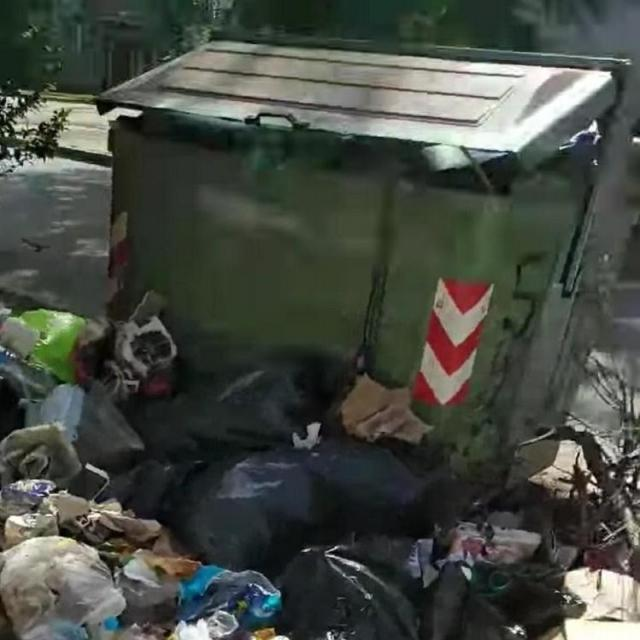garbage: (0, 294, 639, 640)
